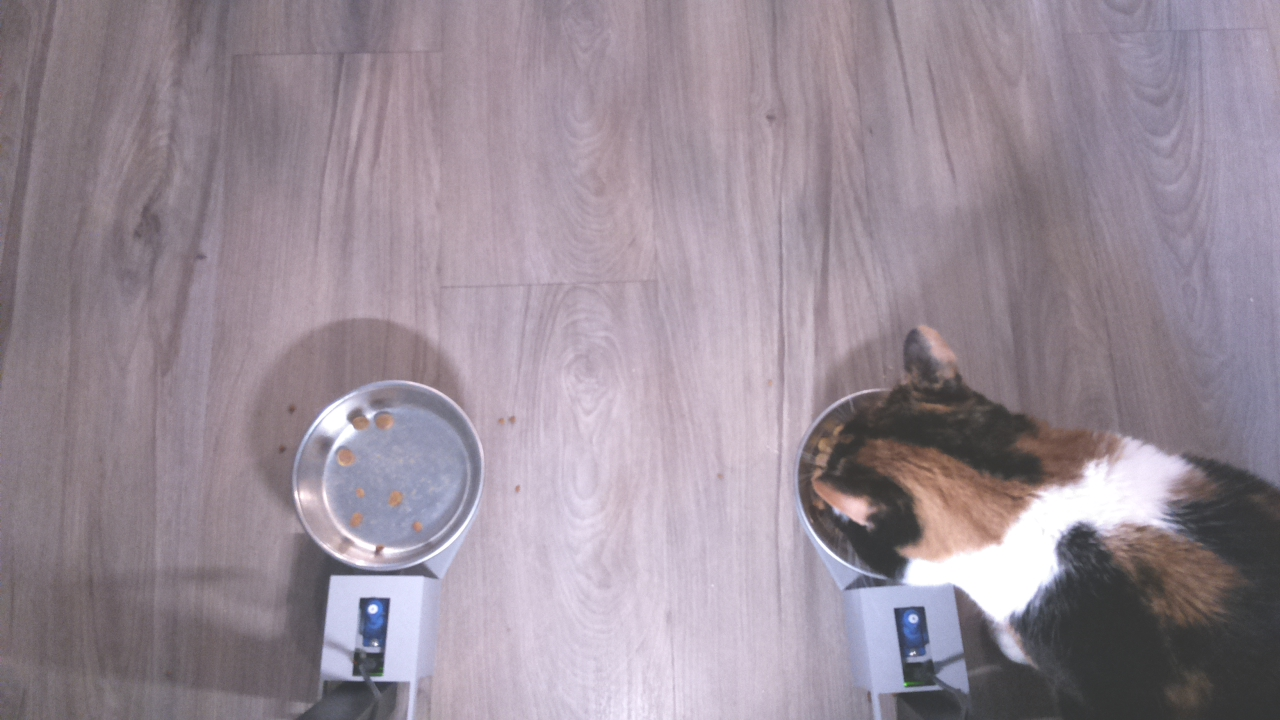bella_eating: (791, 322, 1064, 607)
open_bowl: (284, 376, 492, 573)
